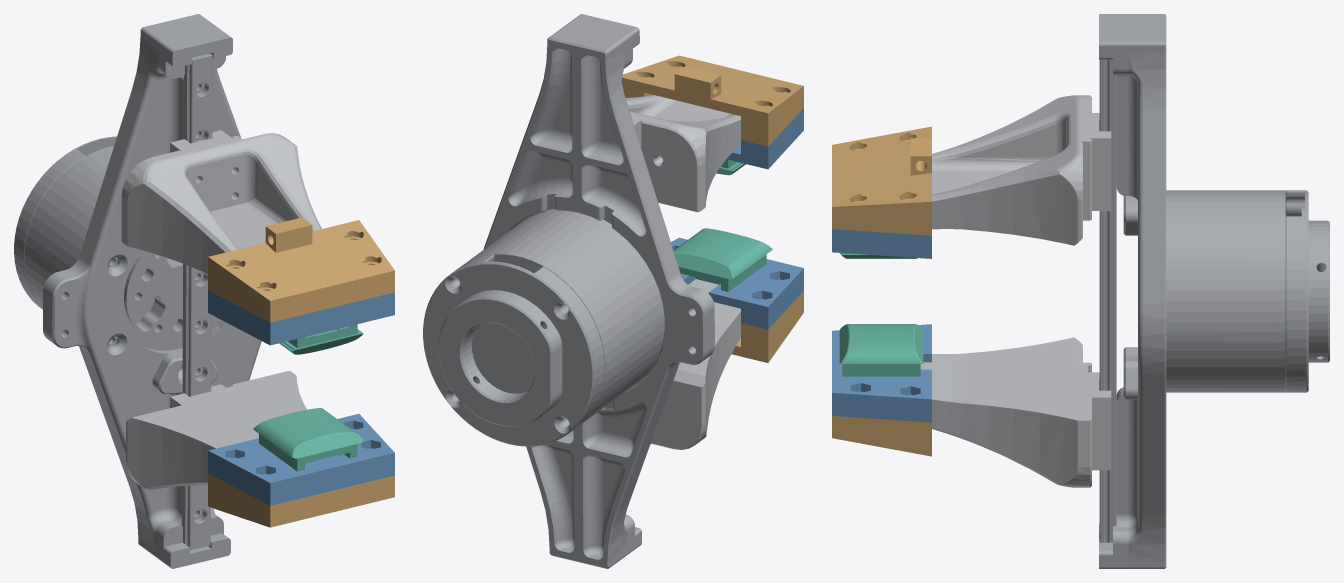
File: piper_dual_m2324_assembly_open50.glb
3 renders of one model, left to right at view 1: azimuth 30°, elevation 25°; view 2: azimuth 150°, elevation 25°; view 3: azimuth 270°, elevation 25°, orthographic. The views are drawn at different scales.
Parts seen in each view (by area): view 1: gripper_base, finger_2, outer_roof_2, finger_1, inner_plate_1, outer_roof_1, inner_plate_2, m2324_sensor_1, m2324_sensor_2; view 2: gripper_base, finger_2, outer_roof_2, finger_1, m2324_sensor_1, inner_plate_1, outer_roof_1, inner_plate_2; view 3: gripper_base, finger_1, finger_2, outer_roof_2, inner_plate_1, m2324_sensor_1, outer_roof_1, inner_plate_2.
Boxes of the visible parts, x1,y1,x2,y2 form: gripper_base: (14, 14, 261, 568); finger_2: (121, 130, 321, 273); outer_roof_2: (208, 217, 394, 322); finger_1: (126, 371, 306, 489); inner_plate_1: (208, 414, 394, 505); outer_roof_1: (208, 473, 394, 527); inner_plate_2: (208, 290, 394, 345); m2324_sensor_1: (253, 408, 363, 471); m2324_sensor_2: (279, 324, 363, 354); gripper_base: (423, 14, 714, 568); finger_2: (625, 95, 740, 212); outer_roof_2: (622, 55, 803, 146); finger_1: (650, 279, 740, 449); m2324_sensor_1: (673, 228, 772, 291); inner_plate_1: (671, 237, 803, 329); outer_roof_1: (731, 291, 803, 362); inner_plate_2: (727, 108, 803, 169); gripper_base: (1099, 14, 1329, 568); finger_1: (920, 337, 1111, 487); finger_2: (932, 95, 1111, 245); outer_roof_2: (832, 126, 931, 235); inner_plate_1: (832, 324, 931, 422); m2324_sensor_1: (839, 324, 923, 376); outer_roof_1: (832, 416, 931, 456); inner_plate_2: (832, 229, 931, 258).
Bounding box in the file's own units: 0.075 × 0.1641 × 0.1401.
